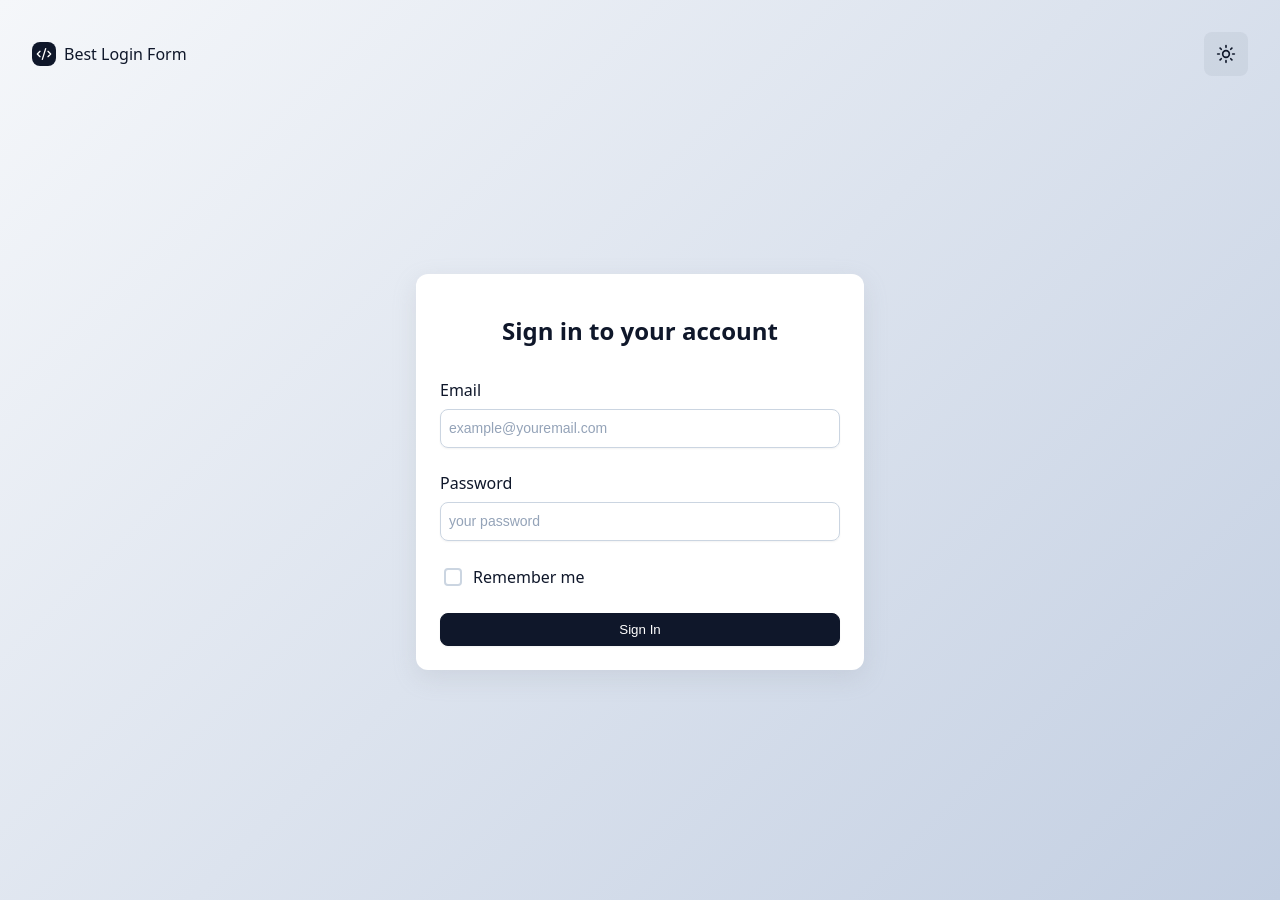
Test: LoginPage › clears API error when form is resubmitted
Type "test@example.com" into the field labelled "Email" at coordinates (640, 429), box [440,409,840,448]
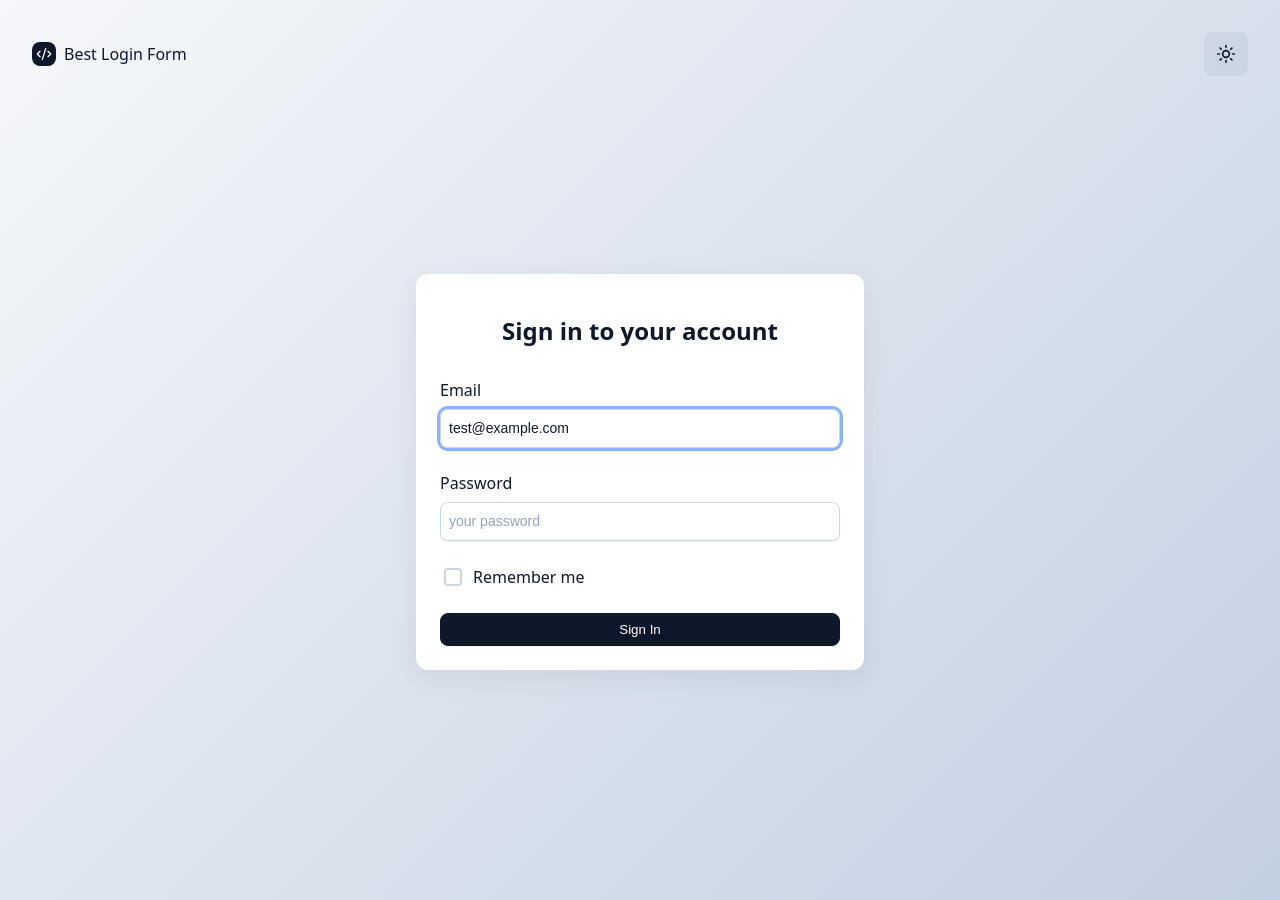
Type "wrong" into the password field labelled "Password" at coordinates (640, 522), box [440,502,840,541]
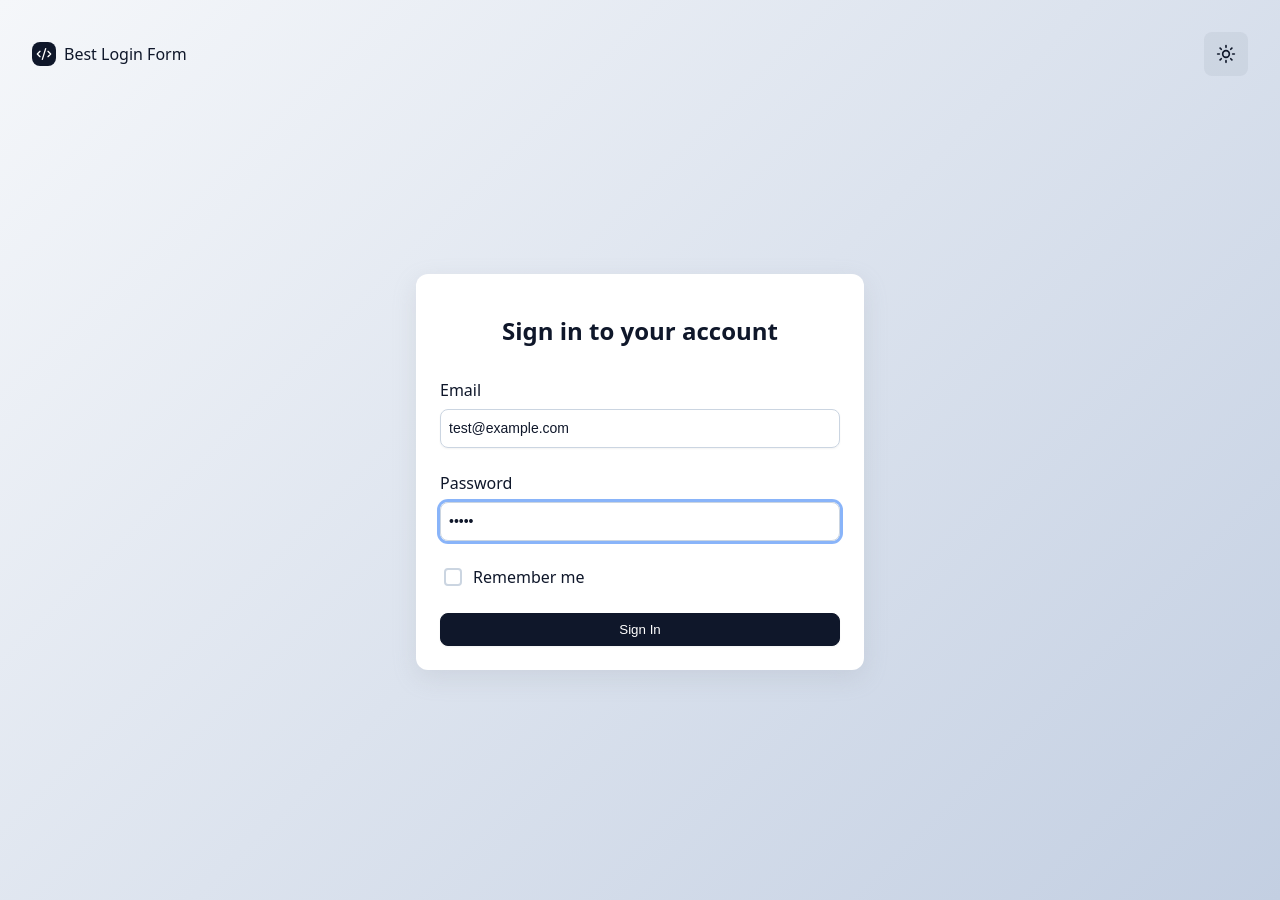
Click the button "Sign In" at coordinates (640, 630), box [440,613,840,646]
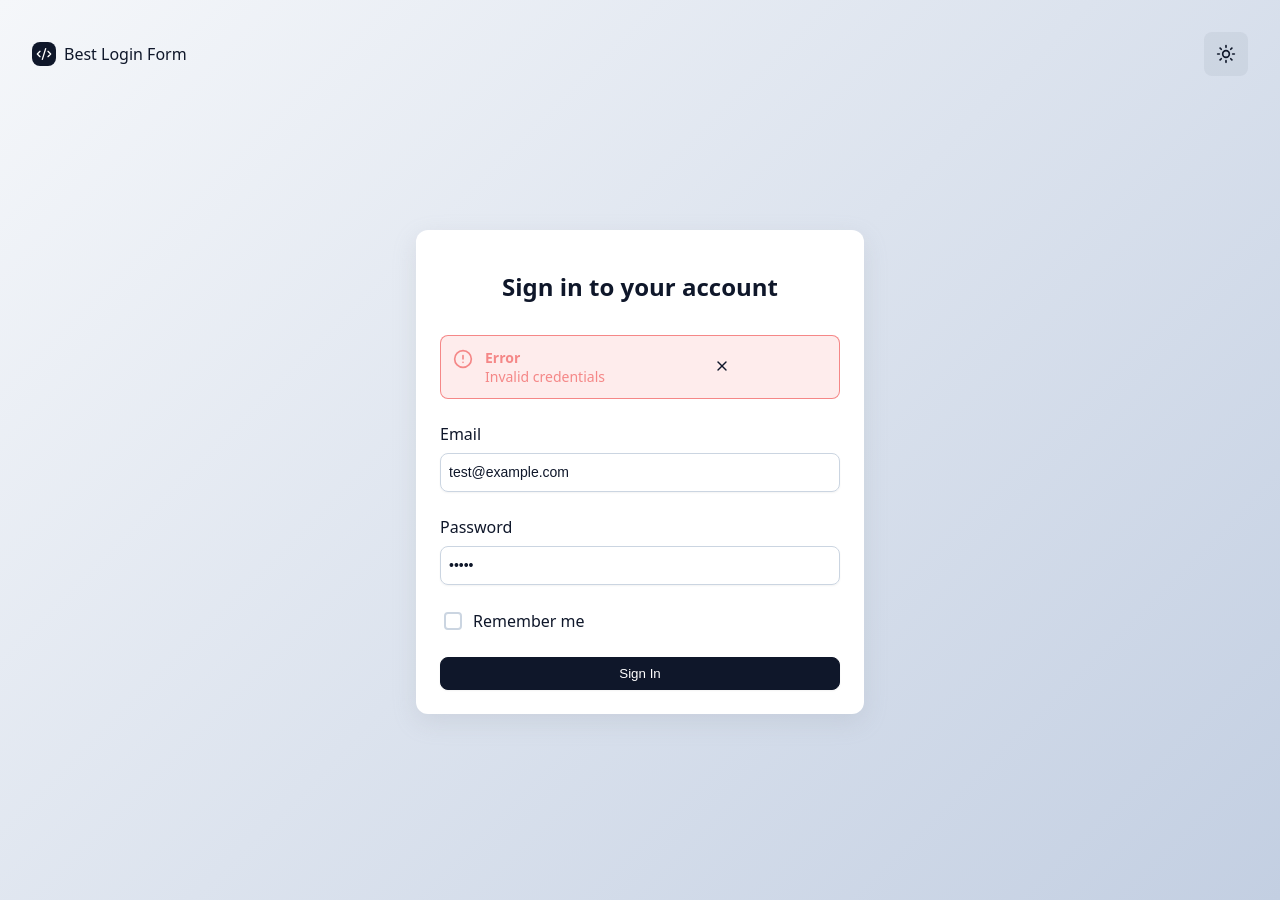
Now the text "Invalid credentials" is shown, box [485,367,605,386]
Type "1234" into the password field labelled "Password" at coordinates (640, 566), box [440,546,840,585]
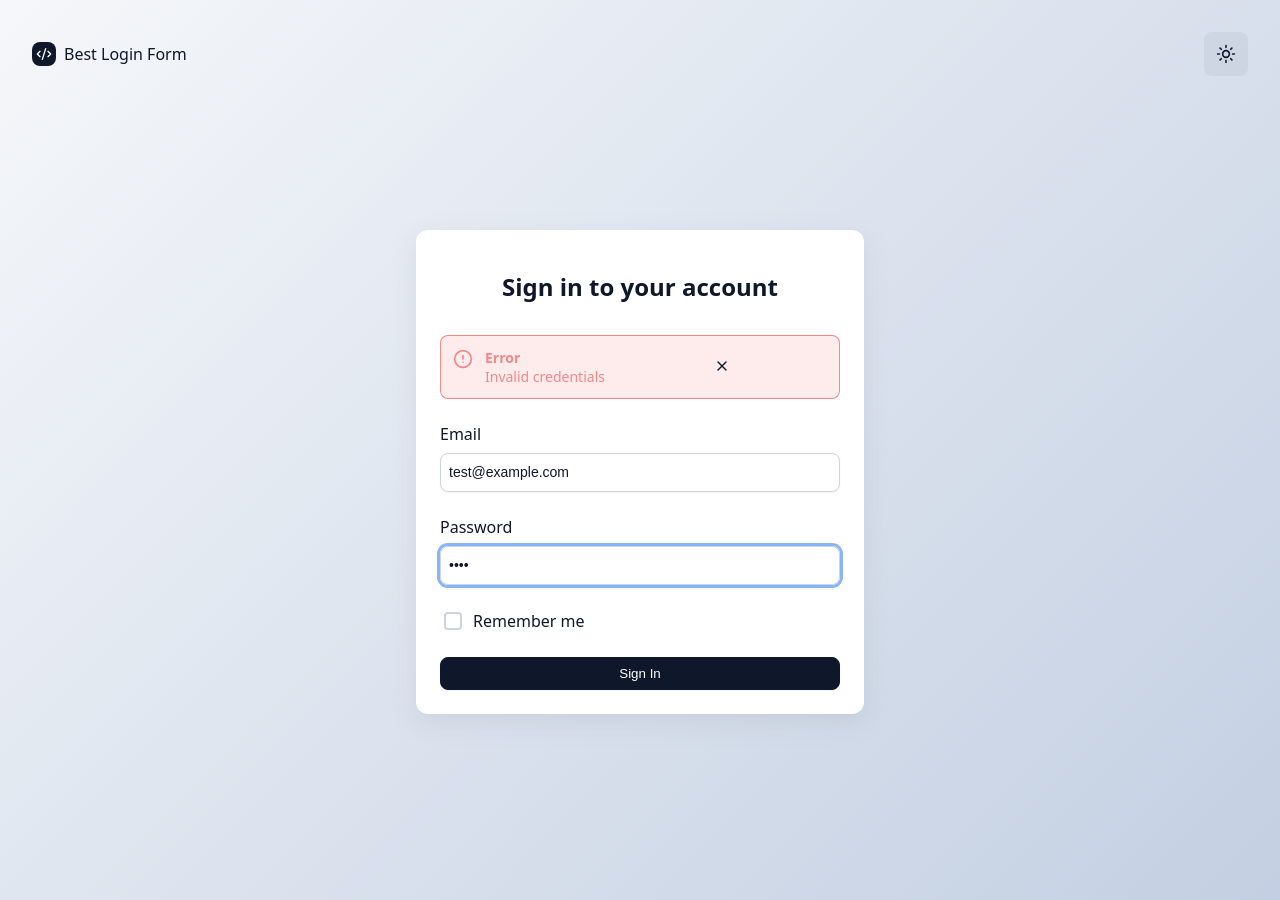
Click the button "Sign In" at coordinates (640, 674), box [440,657,840,690]
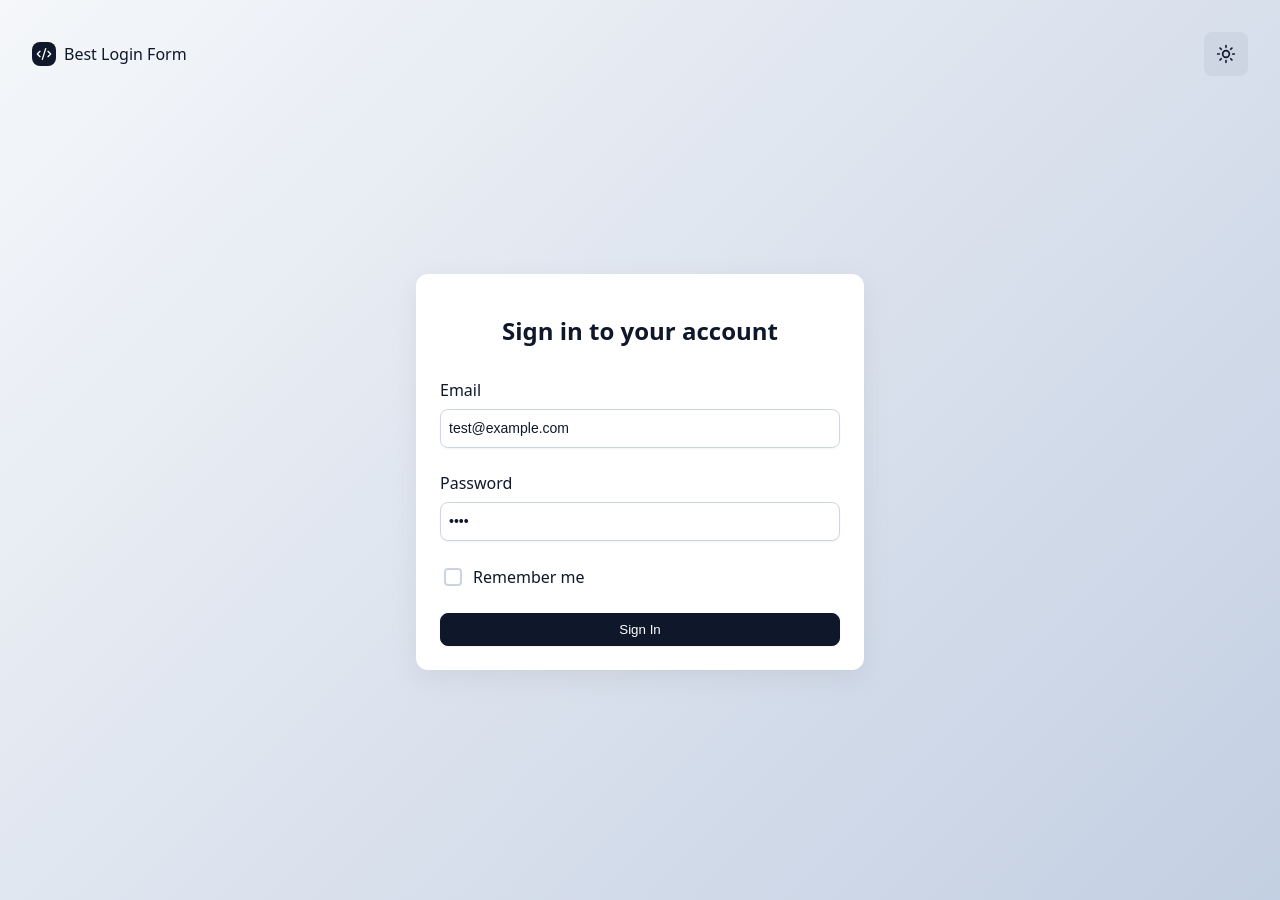
Now the text "Invalid credentials" is gone
